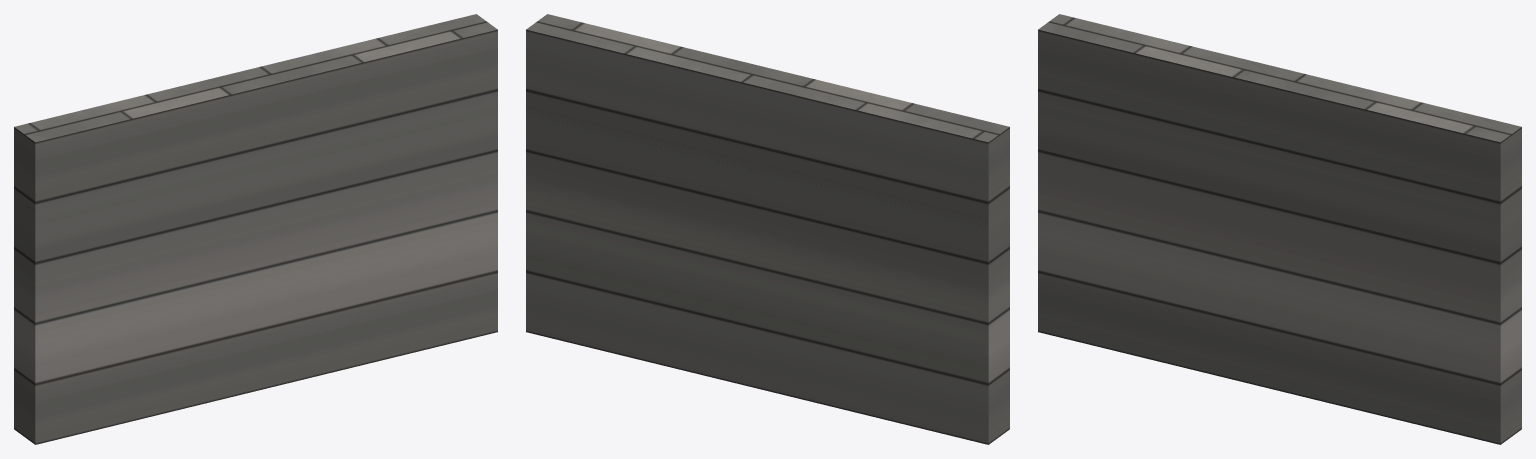
Rendered from muro_piedra_collision.glb.
3 renders of one model, left to right at view 1: azimuth 30°, elevation 25°; view 2: azimuth 150°, elevation 25°; view 3: azimuth 330°, elevation 25°, orthographic.
Parts seen in each view (by area): view 1: COL_Muro; view 2: COL_Muro; view 3: COL_Muro.
Boxes of the visible parts, <box> form: COL_Muro: <box>14,14,497,444</box>; COL_Muro: <box>526,14,1009,444</box>; COL_Muro: <box>1038,14,1521,444</box>.
Bounding box in the file's own units: 4 × 2.5 × 0.32.
1 material, 1 textured.
